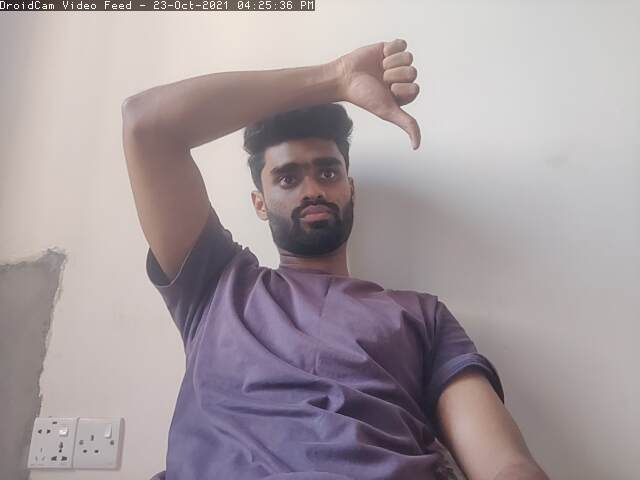ThumbsDown: (348, 32, 432, 152)
